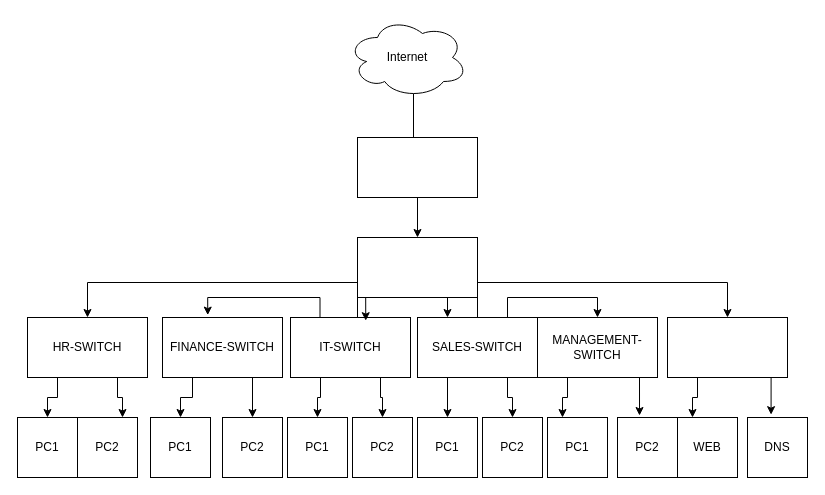
Some shapes in this 825 by 495 pixel diagram are drawn without their labels. The box of each missing label's shape, as (x1, y1, x2, y2) in pixels:
Core-Switch: (356, 236, 478, 298)
Corporate-Router: (356, 136, 478, 198)
SERVER-SWITCH: (666, 316, 788, 378)
